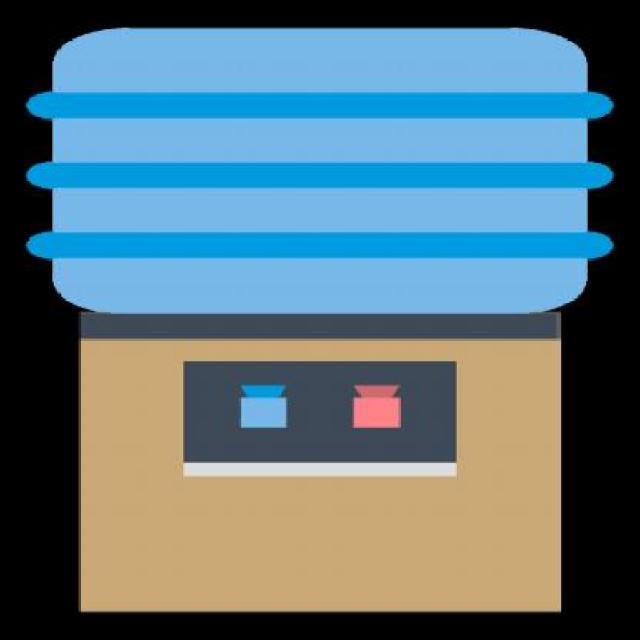cooler: (21, 17, 618, 625)
